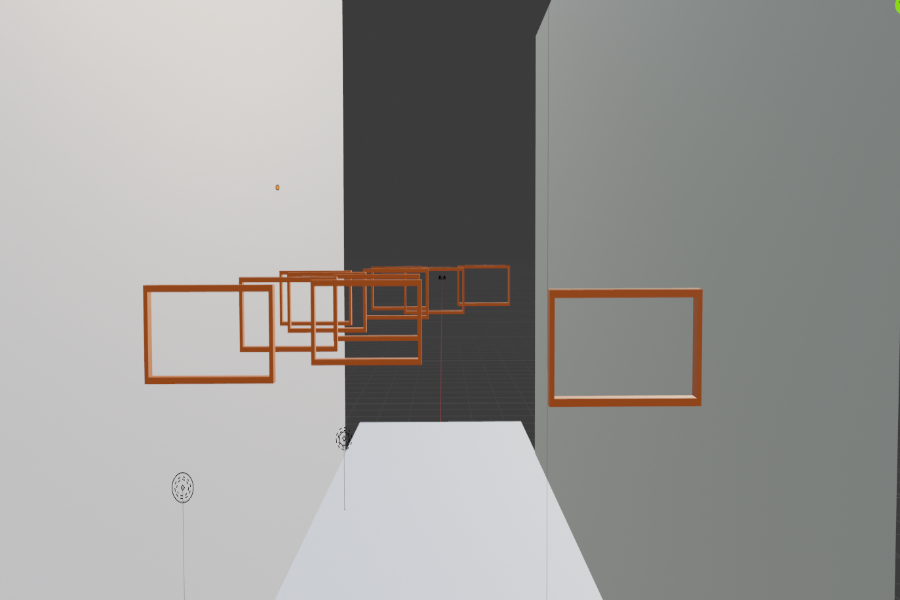GATE: (544, 288, 708, 412), (142, 285, 274, 381), (309, 281, 421, 360), (238, 276, 336, 351)
